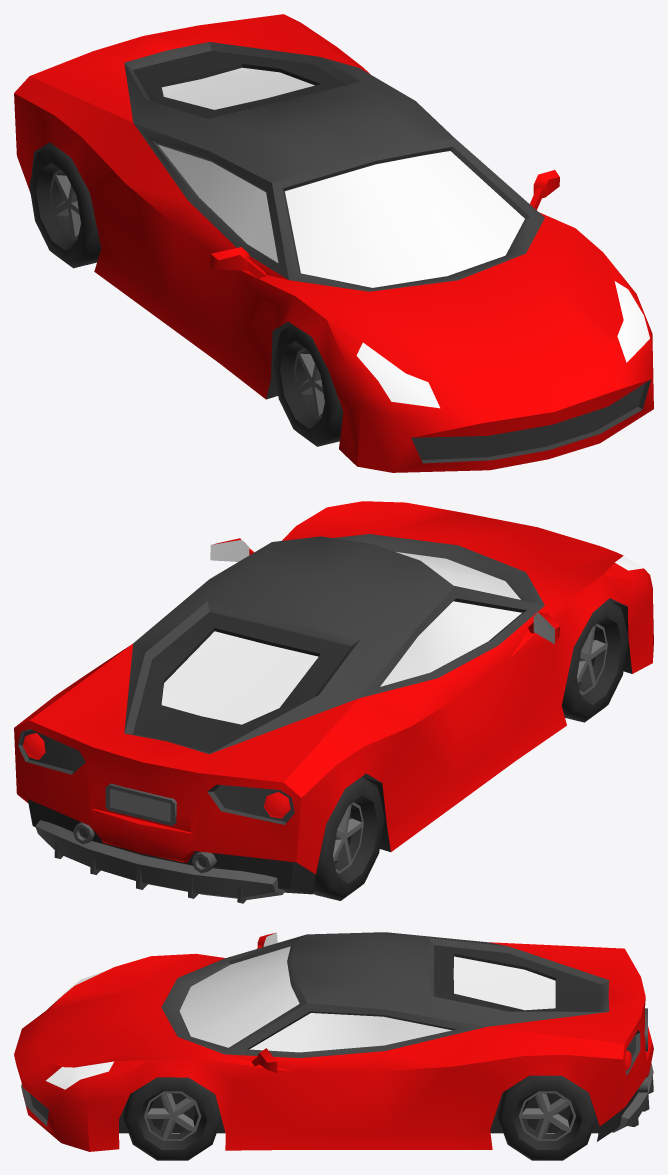
The model's file is italia.glb.
The picture shows the model from 3 angles, top to bottom: view 1: azimuth 30°, elevation 25°; view 2: azimuth 150°, elevation 25°; view 3: azimuth 270°, elevation 25°; orthographic projection. The views are drawn at different scales.
Parts seen in each view (by area): view 1: italia, wheels.022, wheels.037; view 2: italia, wheels.022, wheels.037; view 3: italia, wheels.036, wheels.023.
Boxes of the visible parts, box(x1,y1,x2,y2) form: italia: box(14, 14, 653, 472); wheels.022: box(29, 144, 101, 268); wheels.037: box(273, 324, 343, 446); italia: box(14, 501, 653, 903); wheels.022: box(313, 777, 384, 900); wheels.037: box(561, 599, 628, 722); italia: box(14, 932, 653, 1151); wheels.036: box(498, 1075, 596, 1160); wheels.023: box(123, 1077, 221, 1160).
Size of the model in its own units: 2.5 by 1.34 by 5.24.
Materials: 3 (2 with a texture image).
